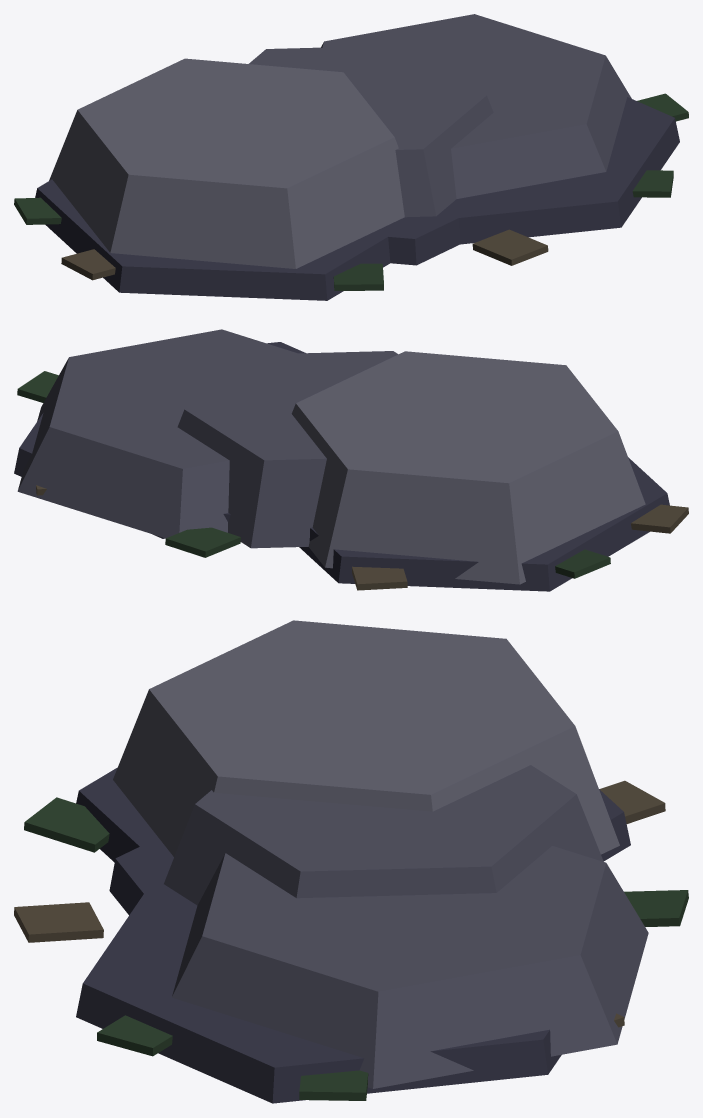
File: teeth_rock.glb
3 views of the same model, one above another, from view 1: azimuth 30°, elevation 25°; view 2: azimuth 150°, elevation 25°; view 3: azimuth 270°, elevation 25° (orthographic). The views are drawn at different scales.
Parts seen in each view (by area): view 1: ink_l30, ink_l22, ink_l12, moss_d55, driftwood_d60; view 2: ink_l30, ink_l22, ink_l12, moss_d55, driftwood_d60; view 3: ink_l22, ink_l30, ink_l12, moss_d55, driftwood_d60.
Part boxes in pixels (x1,y1,x2,y2): ink_l30: (49, 58, 404, 268); ink_l22: (249, 14, 631, 217); ink_l12: (35, 97, 679, 300); moss_d55: (14, 93, 688, 290); driftwood_d60: (61, 229, 548, 280); ink_l30: (291, 351, 645, 584); ink_l22: (17, 329, 398, 548); ink_l12: (14, 342, 669, 591); moss_d55: (17, 371, 610, 578); driftwood_d60: (36, 485, 688, 590); ink_l22: (164, 765, 648, 1088); ink_l30: (113, 620, 619, 856); ink_l12: (76, 767, 630, 1103); moss_d55: (24, 797, 688, 1100); driftwood_d60: (14, 780, 665, 1027).
Bounding box in the file's own units: 3.18 × 0.46 × 2.22.
